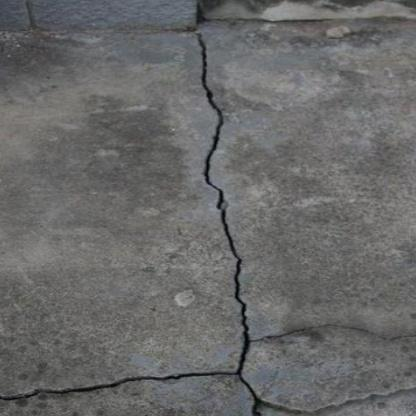Cracks: (0, 30, 310, 416), (311, 386, 416, 416), (314, 321, 374, 339), (250, 15, 330, 28), (388, 331, 416, 346)
